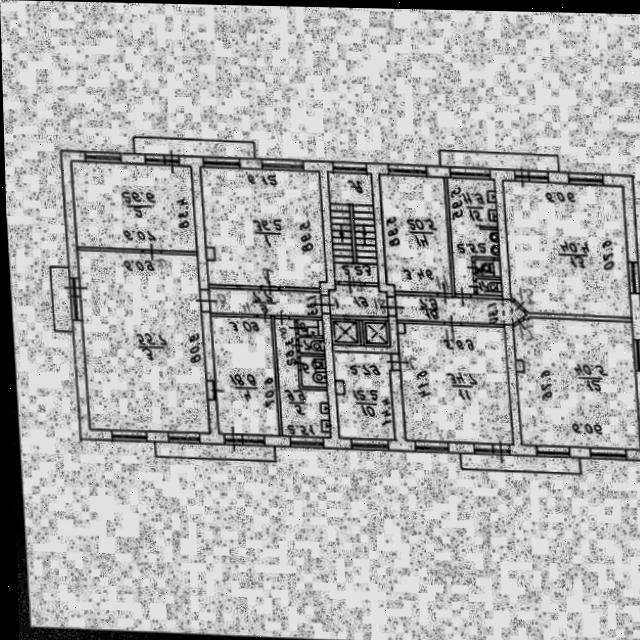room: (76, 246, 207, 443), (502, 175, 629, 325), (511, 312, 637, 457), (196, 170, 328, 291), (395, 319, 510, 453), (68, 164, 196, 254), (379, 173, 450, 299), (210, 316, 276, 441), (273, 318, 327, 442), (446, 176, 499, 296), (328, 172, 376, 287), (331, 353, 392, 443), (393, 297, 525, 327), (207, 290, 320, 320), (133, 140, 254, 161), (457, 455, 578, 475), (152, 444, 273, 464), (438, 152, 558, 172), (327, 287, 387, 319), (50, 270, 69, 335), (298, 357, 324, 391), (474, 280, 501, 297), (473, 261, 499, 278), (296, 340, 323, 356), (296, 322, 321, 338)
